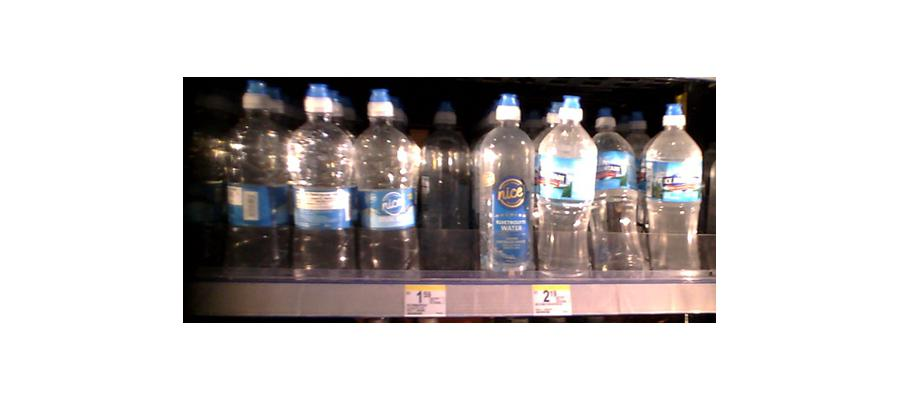bottle: (226, 78, 290, 277), (290, 86, 354, 275), (534, 100, 596, 283), (355, 94, 415, 274), (643, 101, 704, 277), (478, 96, 534, 276), (416, 100, 473, 275), (593, 110, 643, 276)
